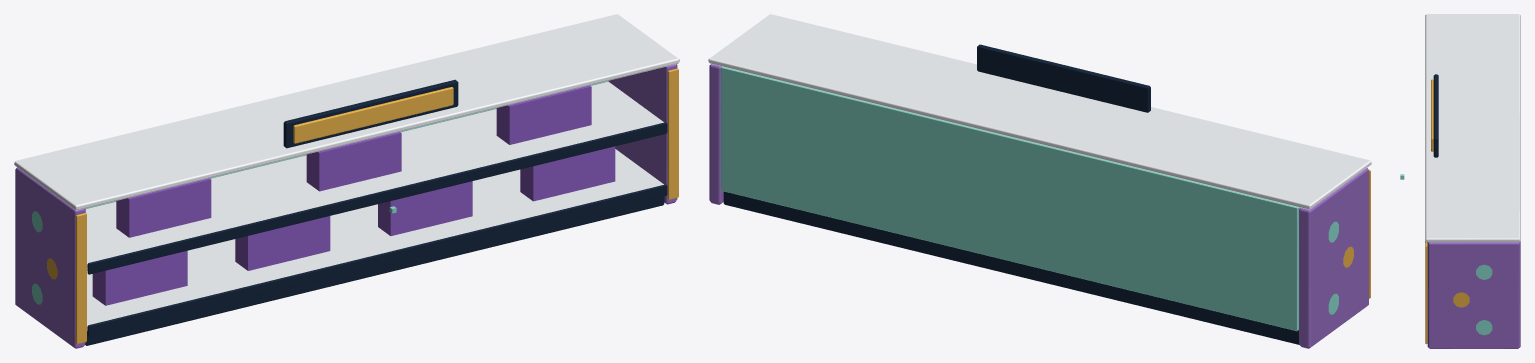
Rendered from CM_Fixture_ToyShelf_Far.fbx.
3 views of the same model, side by side, from view 1: azimuth 30°, elevation 25°; view 2: azimuth 150°, elevation 25°; view 3: azimuth 270°, elevation 25° (orthographic). The views are drawn at different scales.
Visible parts, largest first — view 1: Body; view 2: Body; view 3: Body.
Part boxes in pixels (bbox=[...]): Body: bbox=[14, 14, 679, 348]; Body: bbox=[708, 14, 1371, 348]; Body: bbox=[1425, 14, 1520, 348].
Bounding box in the file's own units: 28 × 6.3 × 7.6.
Materials: 1 (1 with a texture image).
